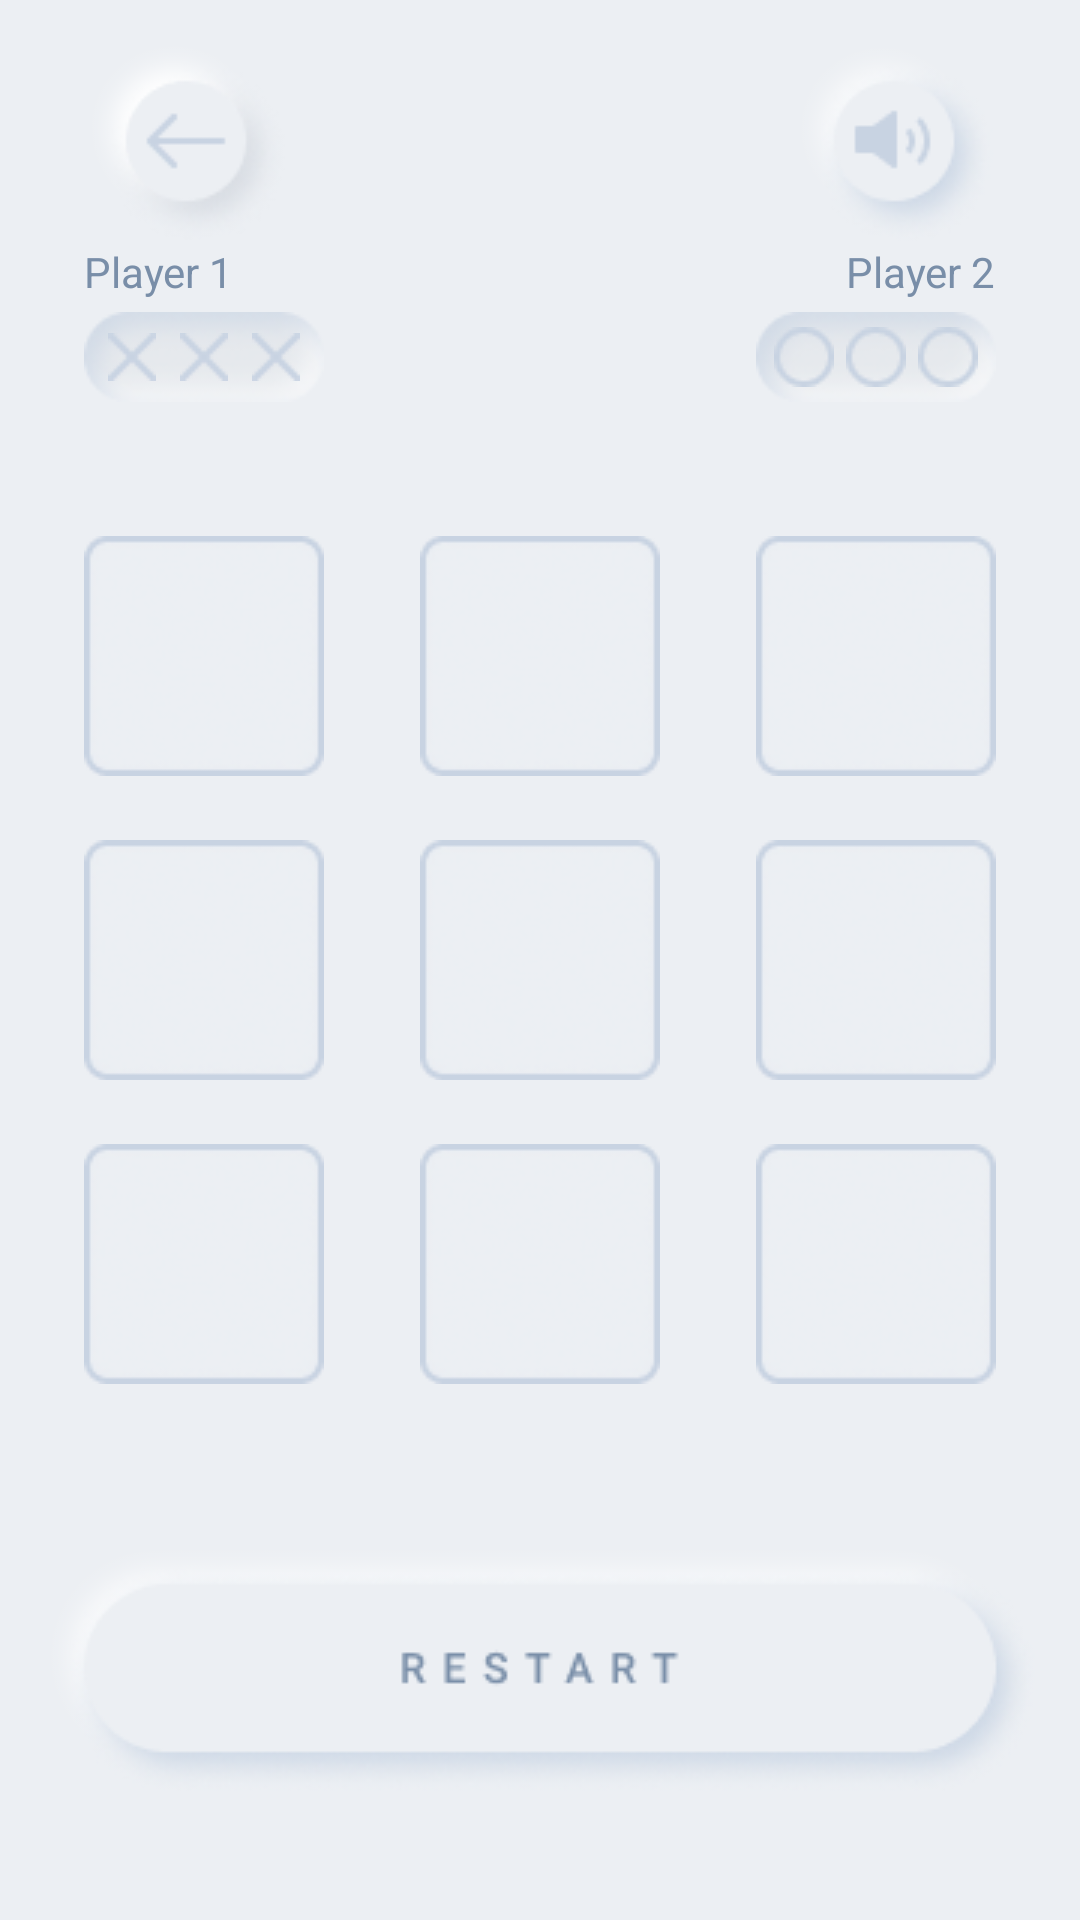

Icon click points for this 1080*1920 phone screenshot, format (x,y):
back states: (186,141)
sound on states: (906,157)
